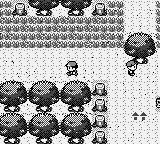captura: (0, 0, 124, 48), (156, 1, 160, 48)
leer: (156, 95, 160, 111)
main: (65, 62, 79, 75)
no-caminable: (0, 81, 92, 143), (29, 0, 92, 16), (124, 33, 156, 64), (92, 80, 107, 143), (92, 2, 107, 16), (12, 3, 28, 16)
npc: (126, 61, 138, 75)
